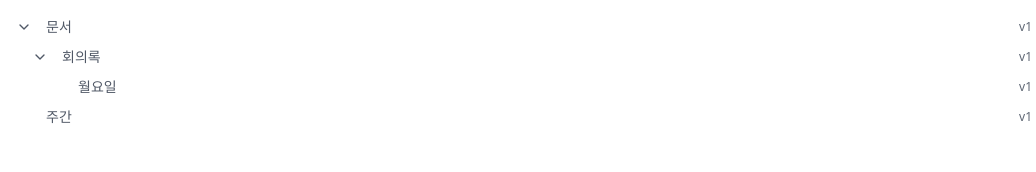
Test: PageTree — 펼치기·접기와 지금 페이지 (FR-1853) › **안쪽 가지를 접으면 그 가지만 접힌다** — 바깥 줄은 그대로다
Click the button named "회의록 접기": [40, 57] box x1=28 y1=45 x2=52 y2=69
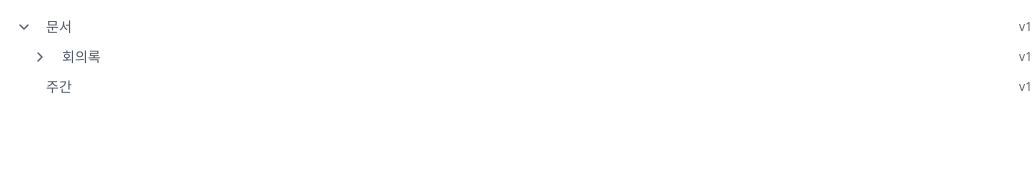
Check: the links read "문서", "회의록", "주간", in this order, box x1=46 y1=17 x2=72 y2=36; x1=62 y1=47 x2=101 y2=66; x1=46 y1=77 x2=72 y2=96
